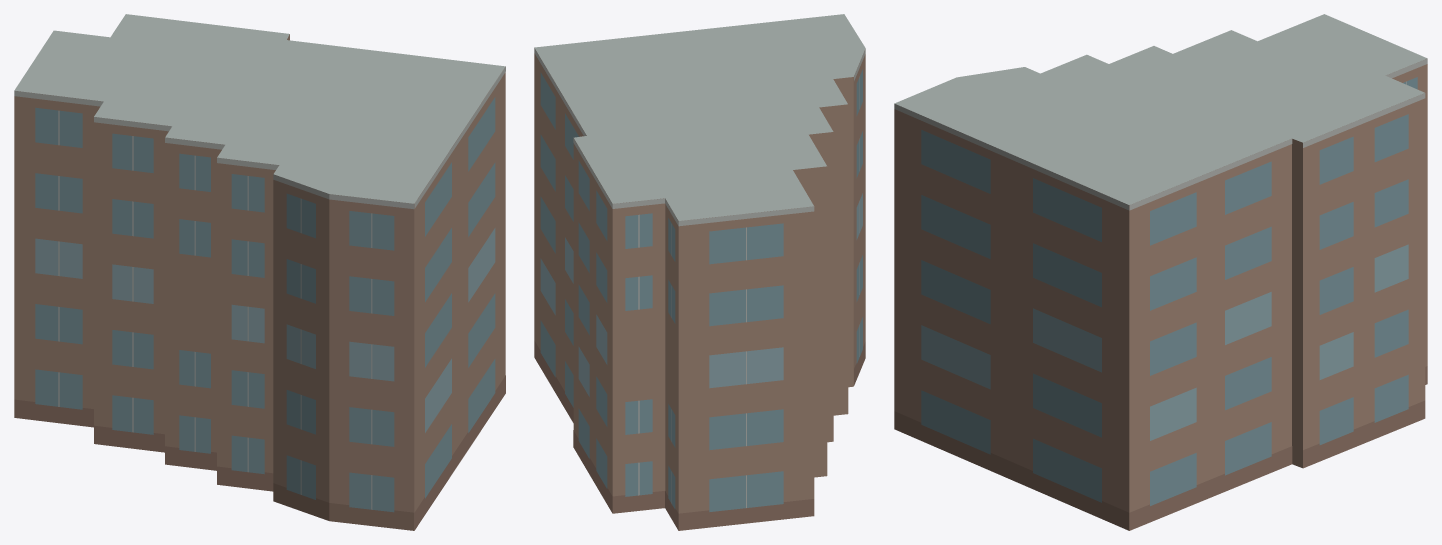
File: survey-upis-32907267.glb
3 views of the same model, side by side, from view 1: azimuth 30°, elevation 25°; view 2: azimuth 150°, elevation 25°; view 3: azimuth 270°, elevation 25° (orthographic). The views are drawn at different scales.
Visible parts, largest first — view 1: survey-upis-32907267.tmp; view 2: survey-upis-32907267.tmp; view 3: survey-upis-32907267.tmp.
Part boxes in pixels (left/top/right/bottom): survey-upis-32907267.tmp: left=14, top=14, right=505, bottom=530; survey-upis-32907267.tmp: left=534, top=14, right=865, bottom=530; survey-upis-32907267.tmp: left=894, top=14, right=1427, bottom=530.
Bounding box in the file's own units: 18.39 × 14.6 × 21.67.
